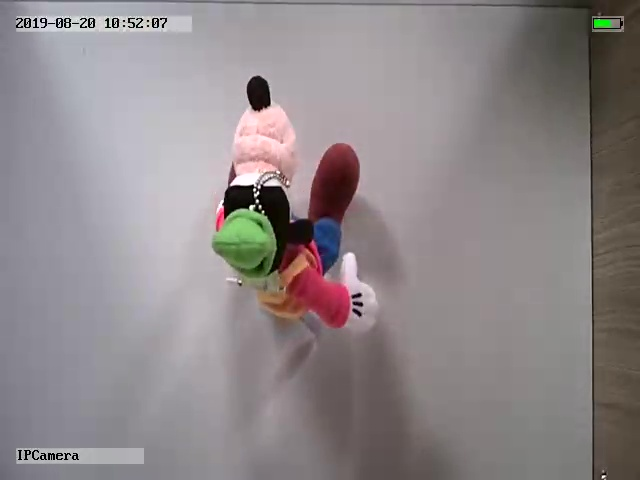goofy: (208, 74, 378, 333)
